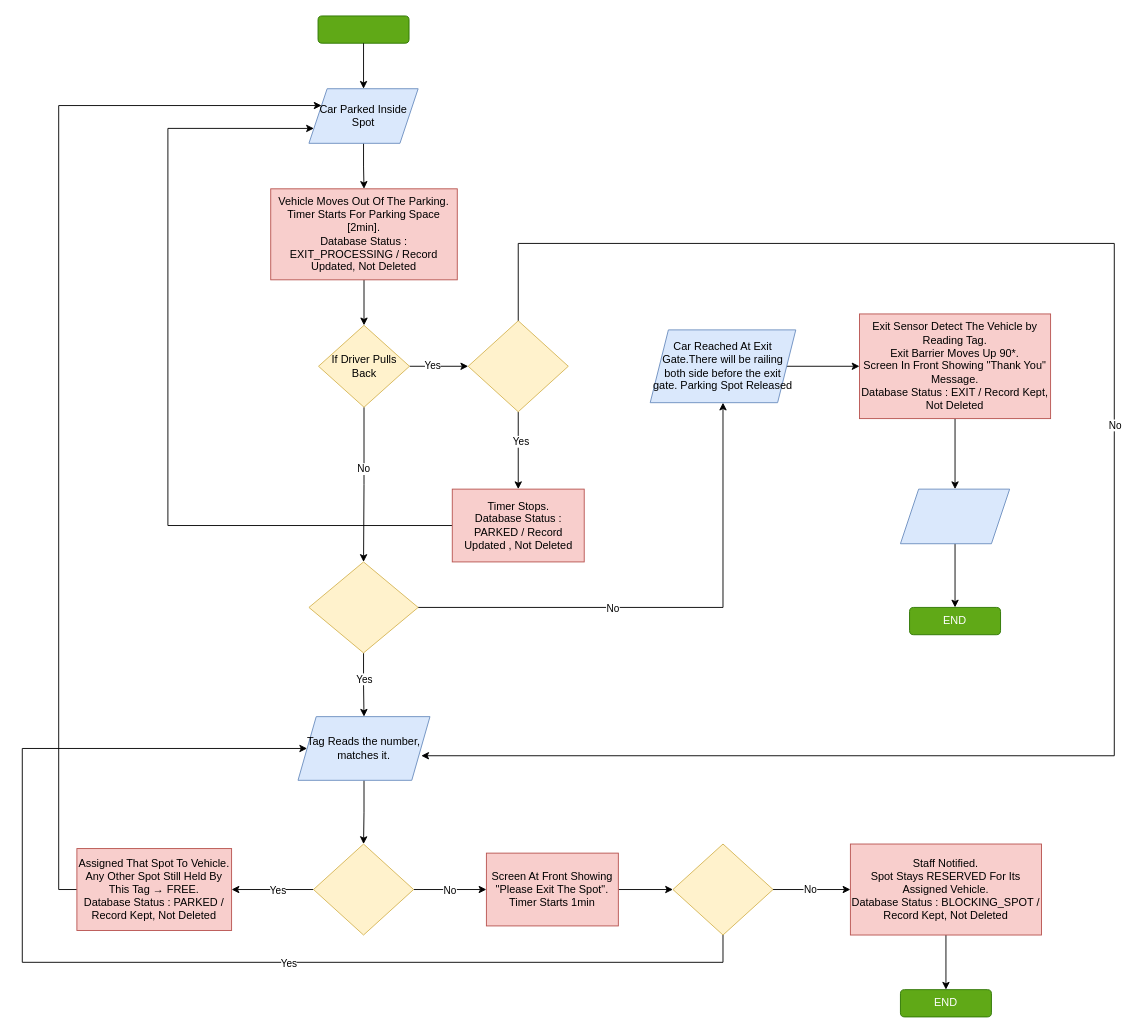
Image size: 1138x1033. Some labels were removed from this diagram. Each missing label, with the centre of its shape:
Car Passes The Barrier: the point at 955,516
If Pulling Back Under 2min: the point at 517,366
If Spot is unassigned: the point at 363,889
Start Exit Phase: the point at 363,29
Vehicle Moved Off Spot?: the point at 722,889
Vehicle Parked In Another Spot?: the point at 363,607
